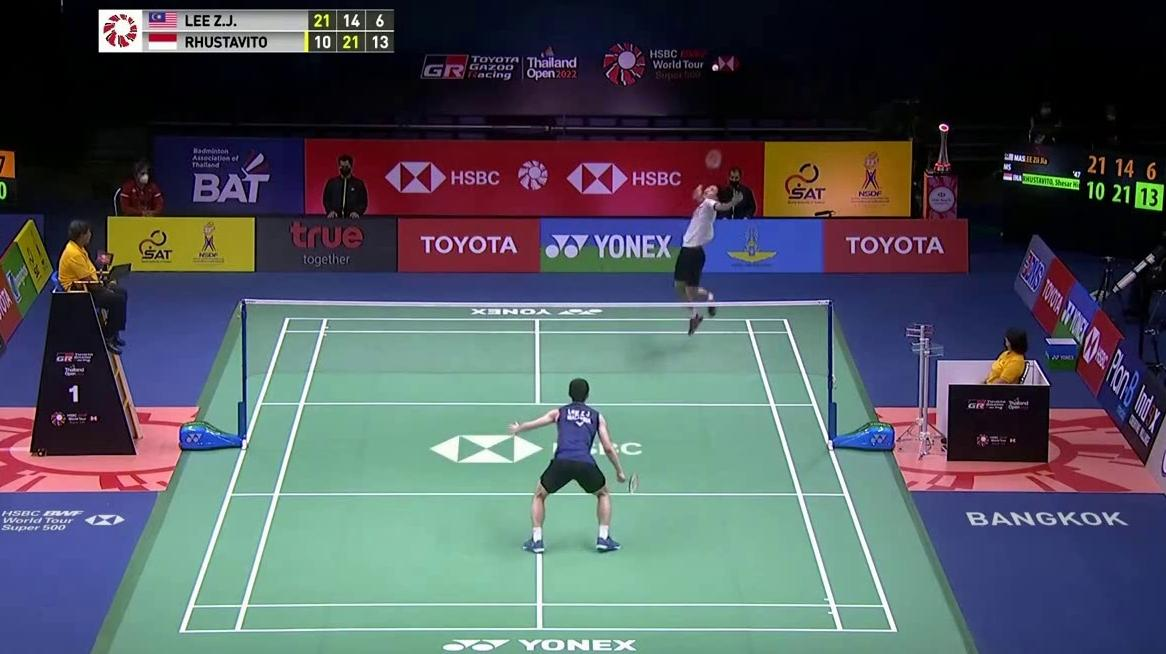racket: (694, 148, 723, 195), (616, 471, 641, 496)
shuttle: (711, 63, 719, 74)
